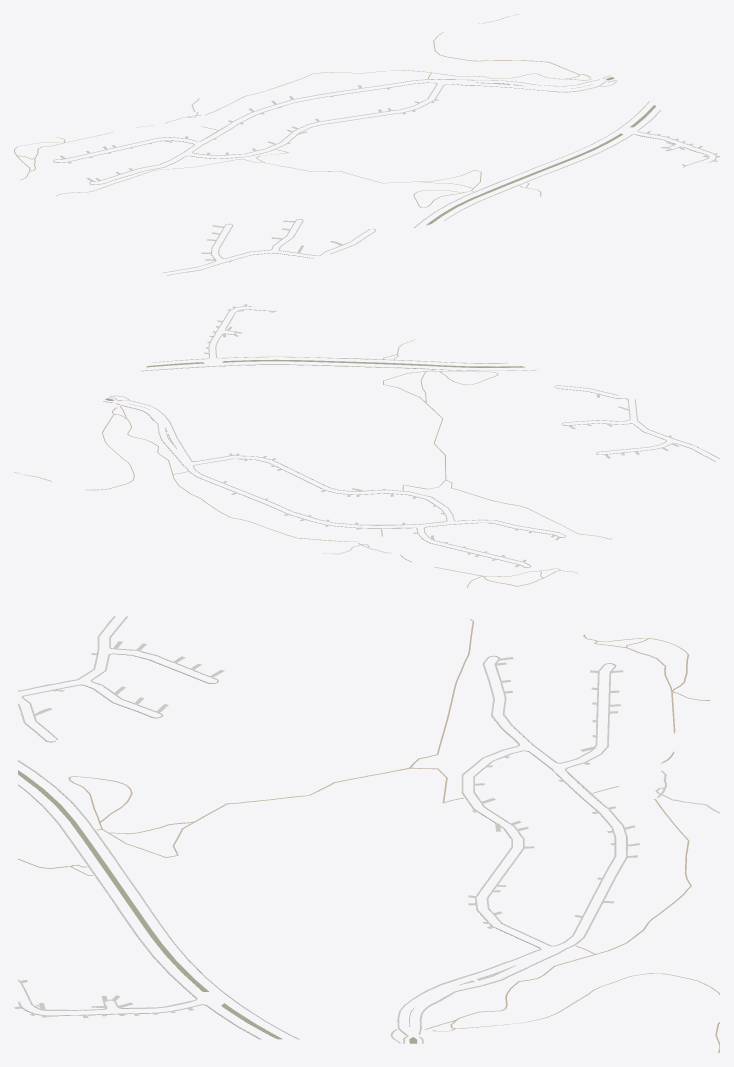
The model's file is ground_r6_c4.glb.
The picture shows the model from 3 angles, top to bottom: view 1: azimuth 30°, elevation 25°; view 2: azimuth 150°, elevation 25°; view 3: azimuth 270°, elevation 25°; orthographic projection. The views are drawn at different scales.
Parts seen in each view (by area): view 1: sidewalks, paths, driveways, medians; view 2: sidewalks, paths, driveways, medians; view 3: sidewalks, paths, driveways, medians.
Boxes of the visible parts, x1,y1,x2,y2 form: sidewalks: (53, 75, 716, 275); paths: (14, 14, 706, 207); driveways: (59, 85, 719, 262); medians: (426, 77, 655, 225); sidewalks: (103, 306, 719, 567); paths: (14, 310, 612, 587); driveways: (204, 304, 679, 567); medians: (105, 359, 525, 400); sidewalks: (18, 616, 627, 1043); paths: (18, 619, 719, 1052); driveways: (14, 641, 639, 1018); medians: (18, 770, 417, 1043).
Size of the model in its own units: 1125 by 70.19 by 792.
